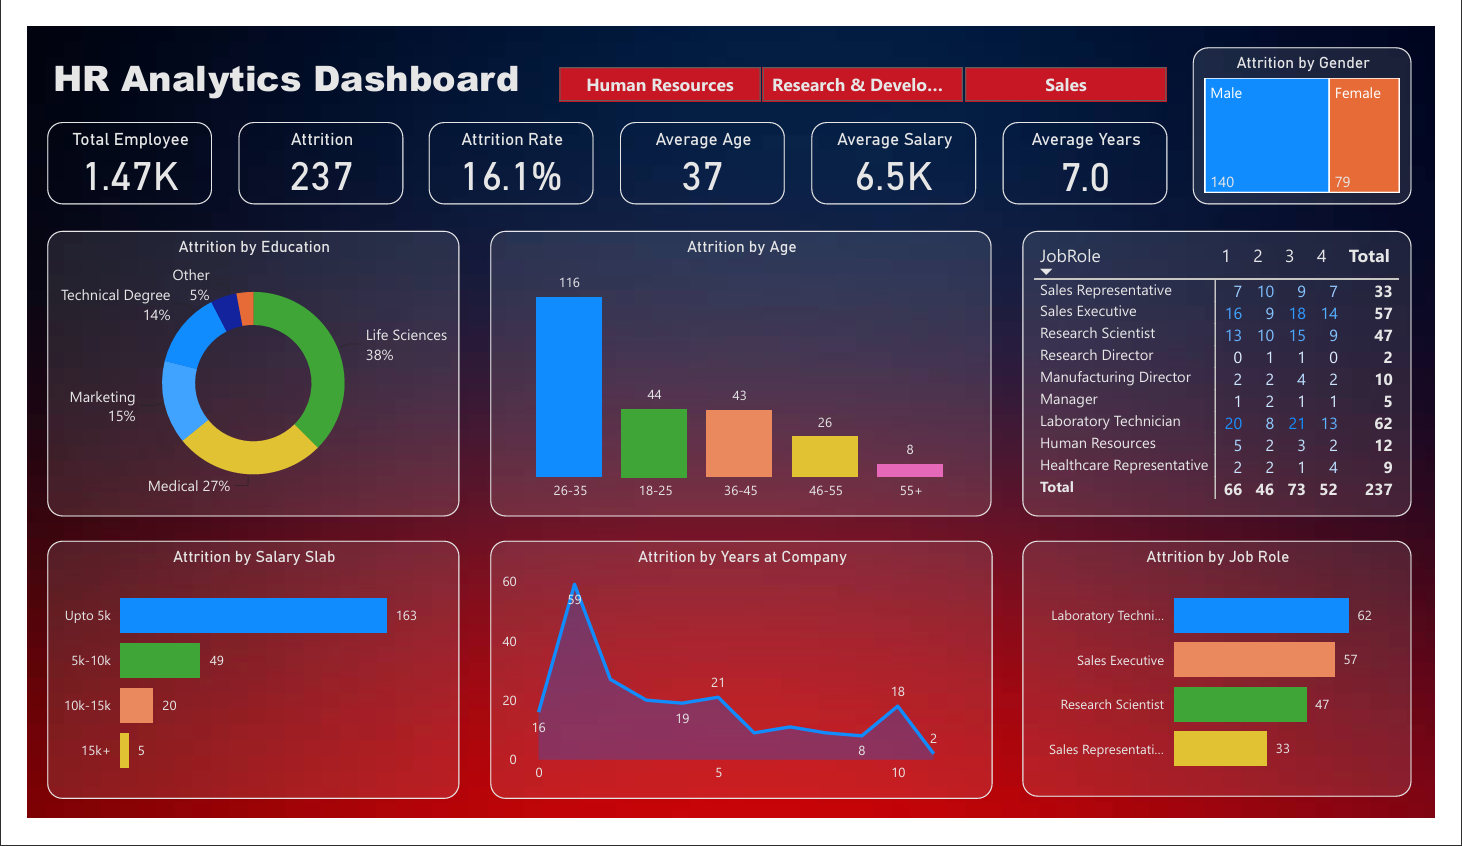

The page's visual inventory and layout, read from the dashboard file:
{"tool":"powerbi","page":{"name":"Page 1","canvas":[1280,720],"ordinal":0},"visuals":[{"type":"cardVisual","title":"Total Employee","fields":{"Data":["CountNonNull(HR_Analytics.EmpID)"]},"box":[17.8,86.7,150,75.6],"z":0},{"type":"cardVisual","title":"Attrition Rate","fields":{"Data":["HR_Analytics.AttritionRate"]},"box":[365.3,86.7,150,75.6],"z":1000},{"type":"cardVisual","title":"Average Age","fields":{"Data":["HR_Analytics.AverageAge"]},"box":[539.1,86.7,150,75.6],"z":2000},{"type":"cardVisual","title":"Attrition","fields":{"Data":["Sum(HR_Analytics.AttritionCount)"]},"box":[191.6,86.7,150,75.6],"z":3000},{"type":"cardVisual","title":"Average Salary","fields":{"Data":["Avg(HR_Analytics.MonthlyIncome)"]},"box":[712.9,86.7,150,75.6],"z":4000},{"type":"cardVisual","title":"Average Years","fields":{"Data":["Avg(HR_Analytics.YearsAtCompany)"]},"box":[886.7,86.7,150,75.6],"z":5000},{"type":"donutChart","title":"Attrition by Education","fields":{"Category":["HR_Analytics.EducationField"],"Y":["Sum(HR_Analytics.AttritionCount)"]},"box":[17.5,186.2,375,260],"z":6000},{"type":"columnChart","title":"Attrition by Age","fields":{"Category":["HR_Analytics.AgeGroup"],"Y":["Sum(HR_Analytics.AttritionCount)"]},"box":[420.6,186.2,456.2,260],"z":7000},{"type":"pivotTable","fields":{"Rows":["HR_Analytics.JobRole"],"Columns":["HR_Analytics.JobSatisfaction"],"Values":["Sum(HR_Analytics.AttritionCount)"]},"box":[905,186.2,353.8,260],"z":8000},{"type":"barChart","title":"Attrition by Salary Slab","fields":{"Category":["HR_Analytics.SalarySlab"],"Y":["Sum(HR_Analytics.AttritionCount)"]},"box":[17.5,467.5,375,235],"z":9000},{"type":"barChart","title":"Attrition by Job Role","fields":{"Category":["HR_Analytics.JobRole"],"Y":["Sum(HR_Analytics.AttritionCount)"]},"box":[905,467.5,353.8,233.8],"z":10000},{"type":"areaChart","title":"Attrition by Years at Company","fields":{"Category":["HR_Analytics.YearsAtCompany"],"Y":["Sum(HR_Analytics.AttritionCount)"]},"box":[421.2,467.5,456.2,235],"z":11000},{"type":"treemap","title":"Attrition by Gender","fields":{"Group":["HR_Analytics.Gender"],"Values":["Sum(HR_Analytics.AttritionCount)"]},"box":[1060,18.9,198.9,143.3],"z":12000},{"type":"slicer","fields":{"Values":["HR_Analytics.Department"]},"box":[457.5,30,602.5,40],"z":13000},{"type":"textbox","box":[17.5,18.8,440,62.5],"z":14000}]}

Visuals, with their boxes in screenshot pixels (x1, y1, x2, y2), scaled from the page's 1280x720 canvas onto the 1462x846 screenshot:
"Total Employee" cardVisual: [left=20, top=102, right=192, bottom=191]
"Attrition Rate" cardVisual: [left=417, top=102, right=589, bottom=191]
"Average Age" cardVisual: [left=616, top=102, right=787, bottom=191]
"Attrition" cardVisual: [left=219, top=102, right=390, bottom=191]
"Average Salary" cardVisual: [left=814, top=102, right=986, bottom=191]
"Average Years" cardVisual: [left=1013, top=102, right=1184, bottom=191]
"Attrition by Education" donutChart: [left=20, top=219, right=448, bottom=524]
"Attrition by Age" columnChart: [left=480, top=219, right=1001, bottom=524]
pivotTable - HR_Analytics.JobRole x HR_Analytics.JobSatisfaction: [left=1034, top=219, right=1438, bottom=524]
"Attrition by Salary Slab" barChart: [left=20, top=549, right=448, bottom=825]
"Attrition by Job Role" barChart: [left=1034, top=549, right=1438, bottom=824]
"Attrition by Years at Company" areaChart: [left=481, top=549, right=1002, bottom=825]
"Attrition by Gender" treemap: [left=1211, top=22, right=1438, bottom=191]
slicer - HR_Analytics.Department: [left=523, top=35, right=1211, bottom=82]
textbox: [left=20, top=22, right=523, bottom=96]
